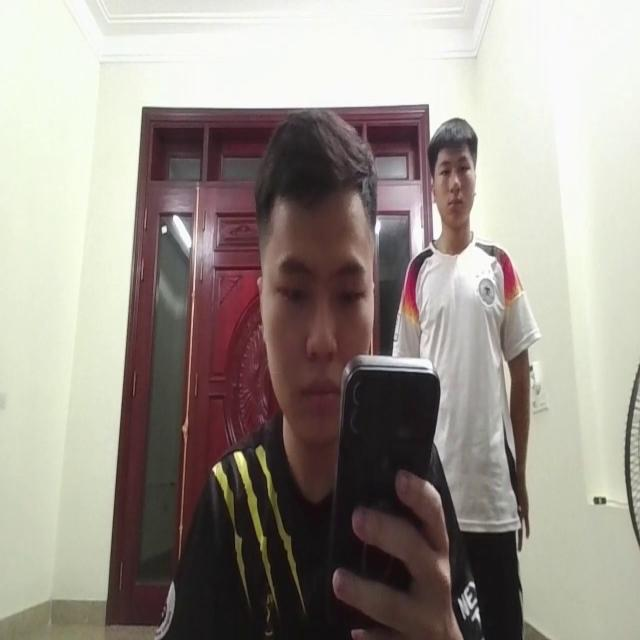extra_person: (396, 103, 534, 550)
phone: (324, 348, 441, 616)
student: (185, 110, 452, 640)
